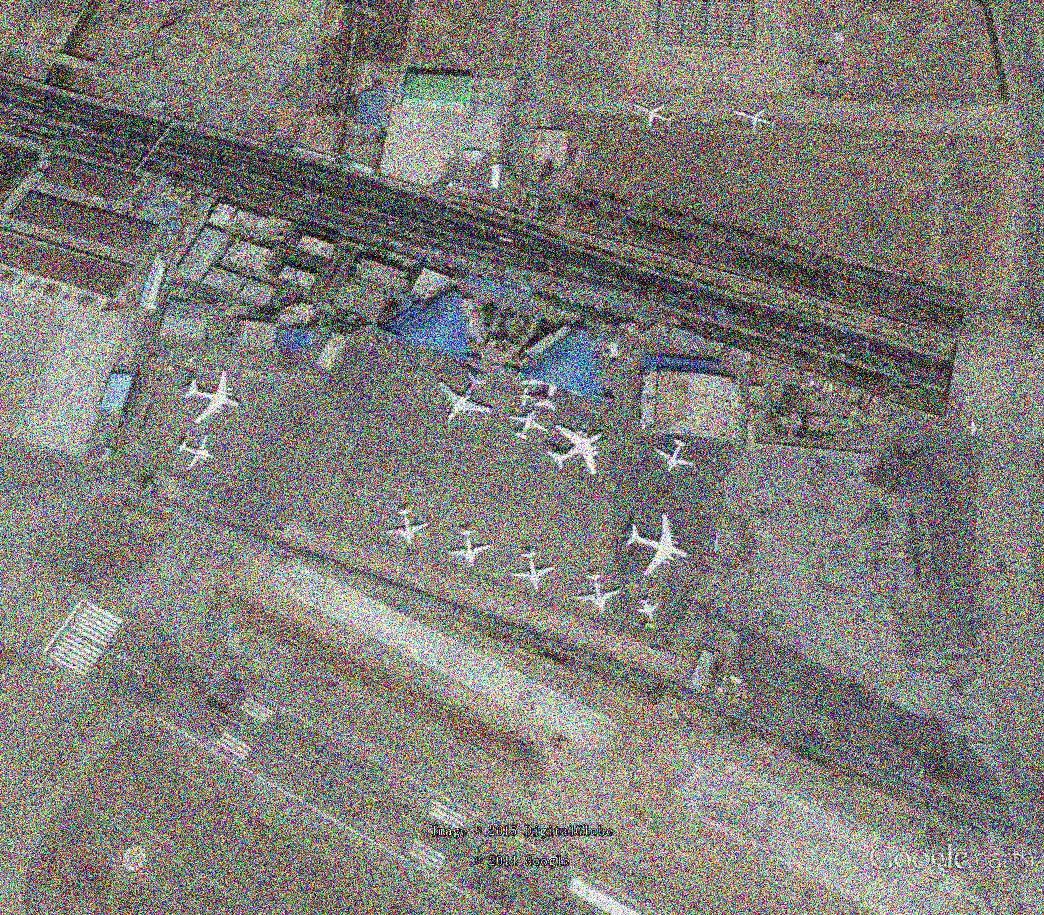aircraft: (178, 367, 249, 429), (544, 421, 607, 483), (436, 373, 496, 426), (381, 505, 435, 553), (571, 570, 625, 618), (508, 549, 561, 595), (442, 528, 495, 573), (648, 436, 702, 478), (174, 432, 219, 472), (507, 408, 549, 444), (627, 99, 678, 127), (730, 108, 780, 135), (634, 595, 666, 628), (531, 391, 564, 417), (964, 418, 987, 441), (514, 388, 540, 406)
